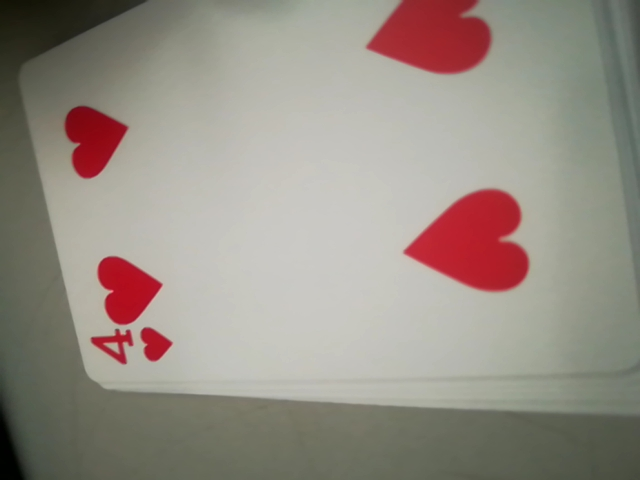hx 4: (84, 322, 174, 376)
